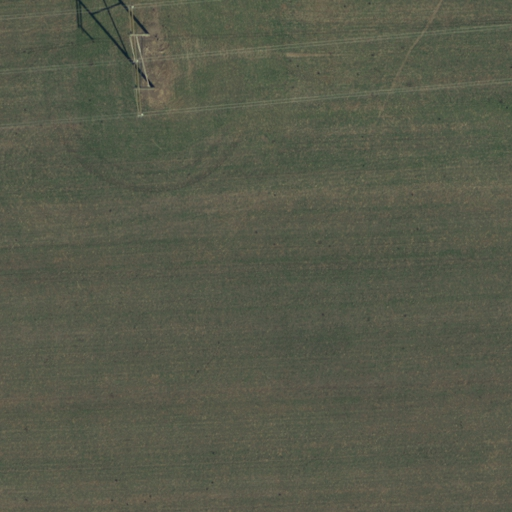TT: (115, 2, 164, 122)
